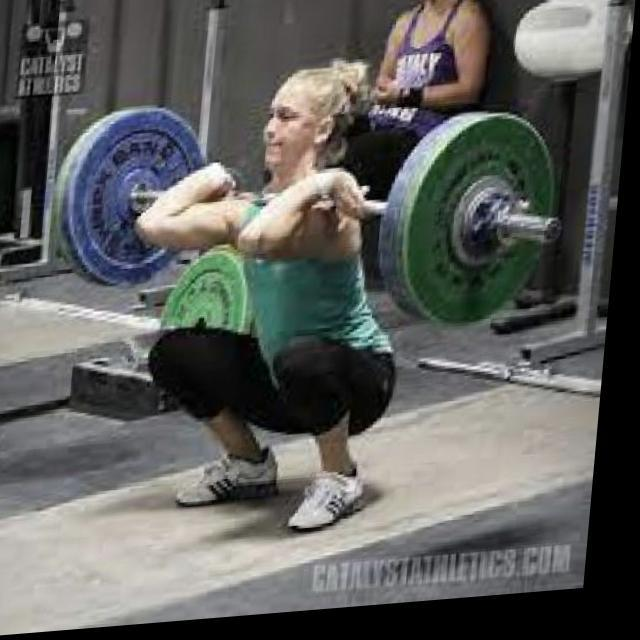barbell: (392, 115, 582, 346)
